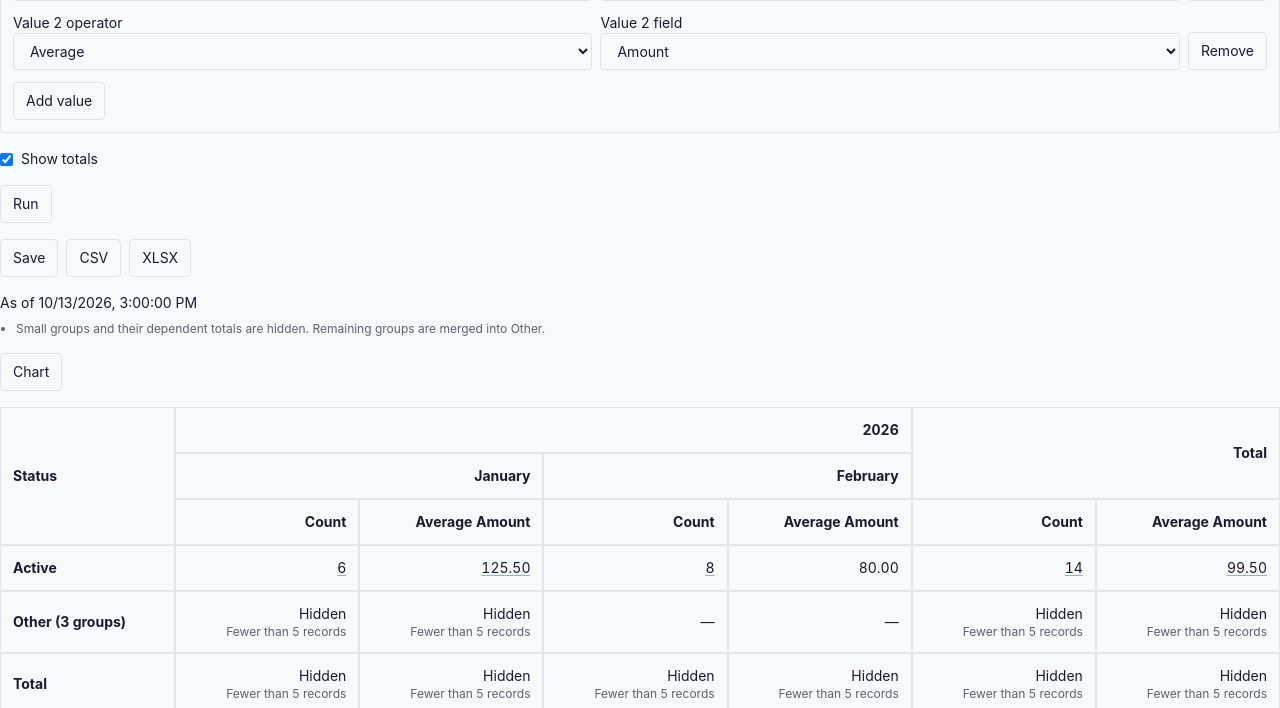
renders nested column headers and explains unsupported charts
(page scrolled)
Click the button "Chart" at x=31, y=372, box [0,353,62,391]
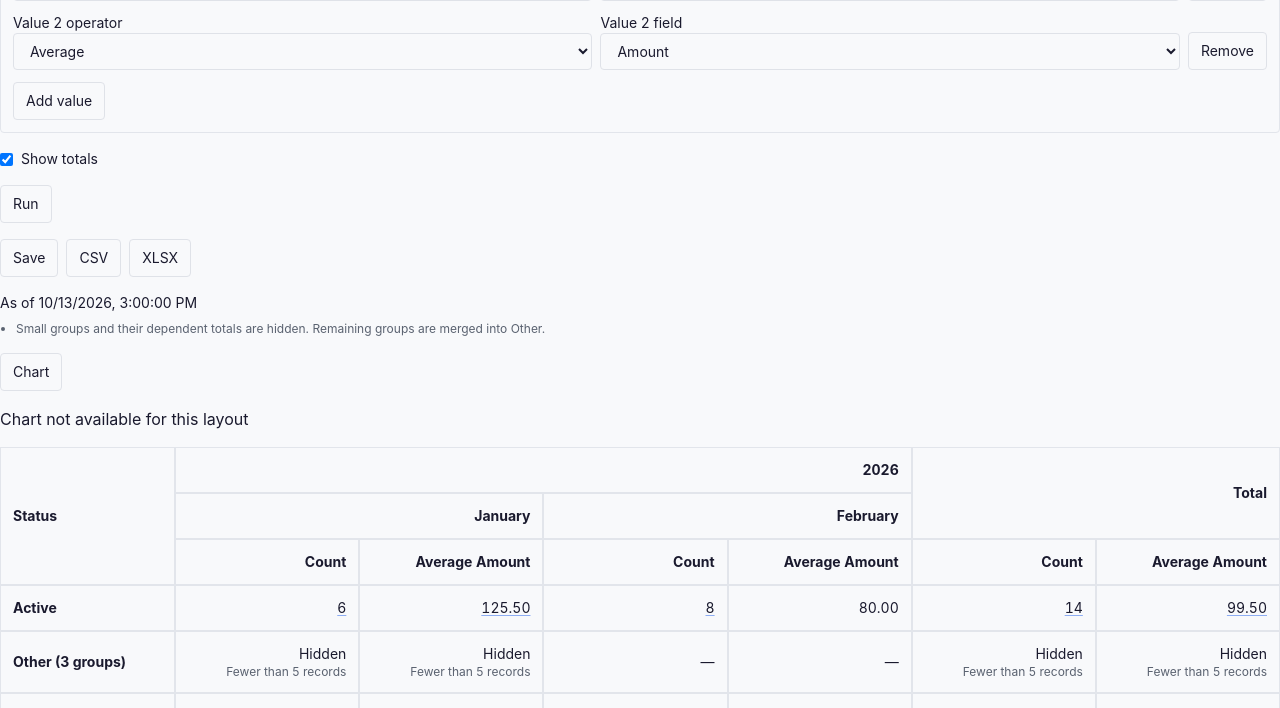
Expected: the text "Chart not available for this layout" is shown, [0,409,248,429]
